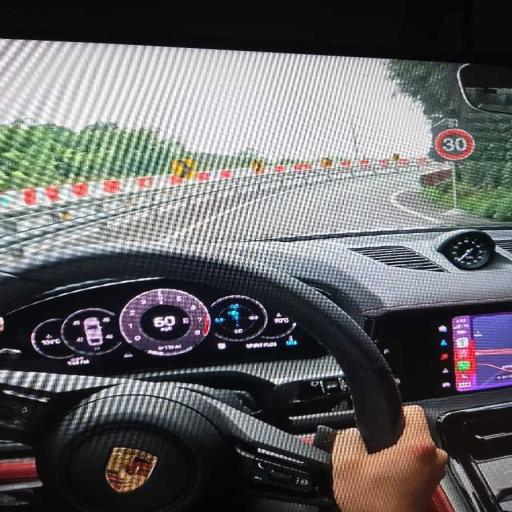car: (0, 40, 511, 511), (83, 317, 103, 346)
lane: (112, 170, 445, 243)
person: (332, 406, 447, 511)
